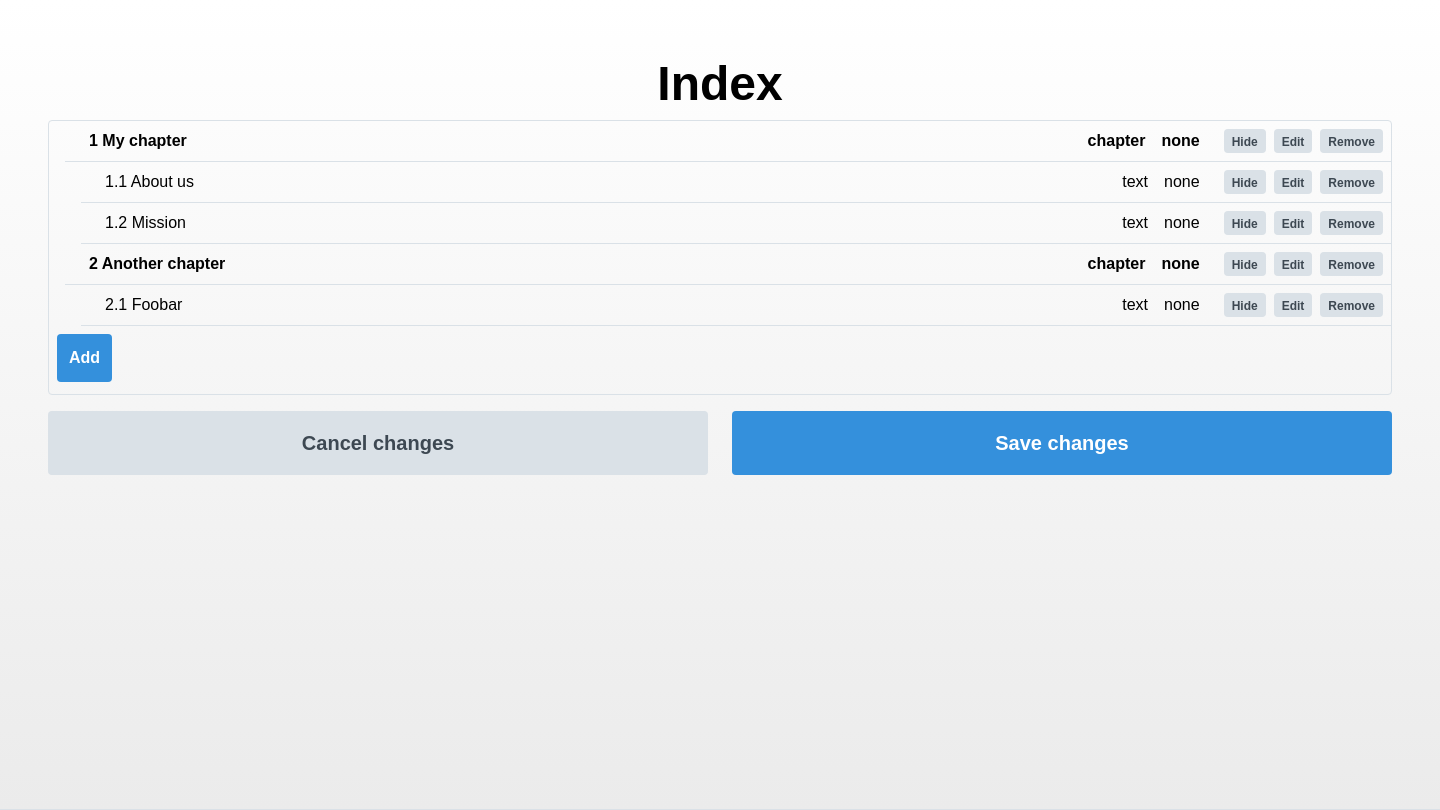
Test: IndexEditor.vue › removes the page when the remove button is clicked
Click the button with class "del" in the row of "1.1 About us": (1352, 182) left=1320, top=170, right=1383, bottom=194
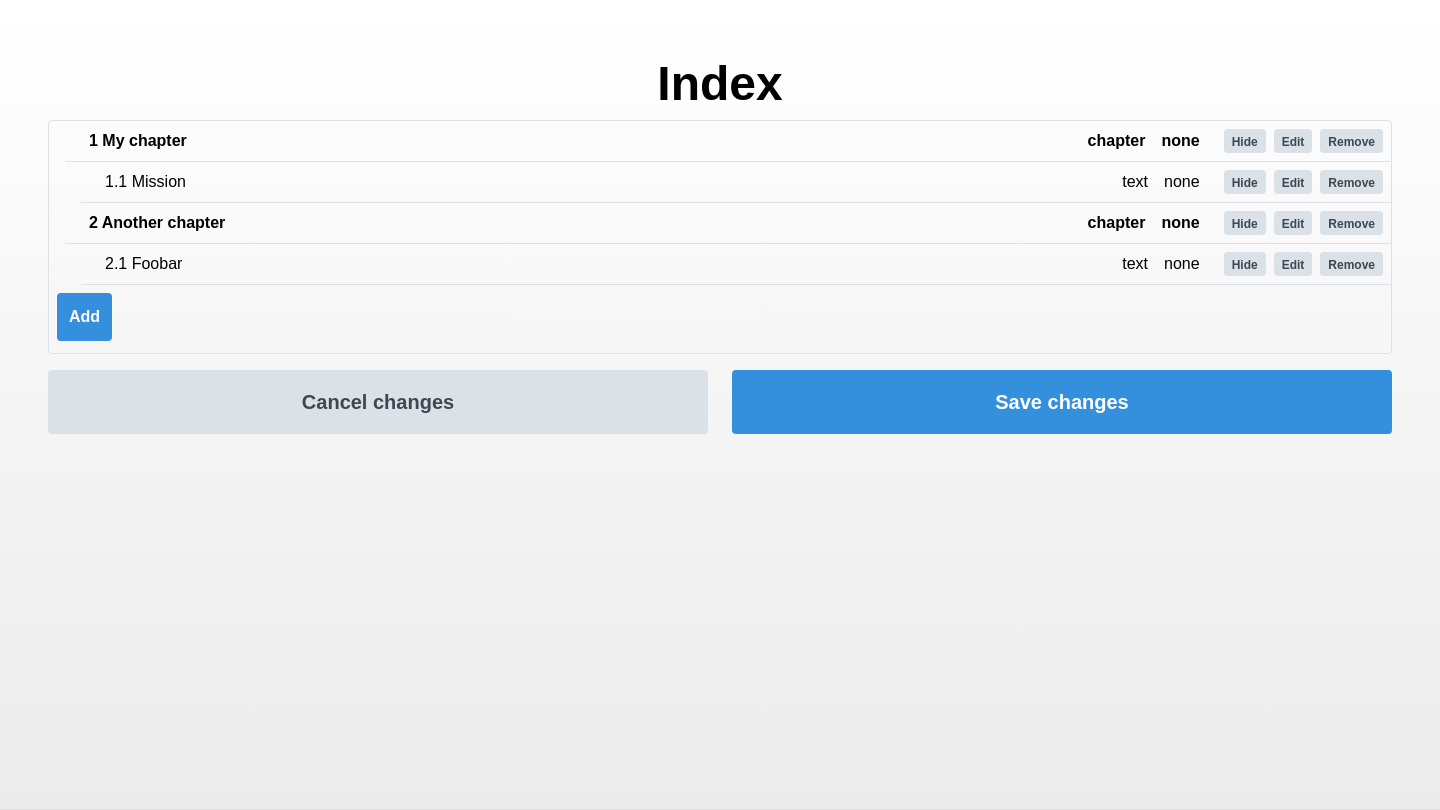
Check: the text "About us" is gone
